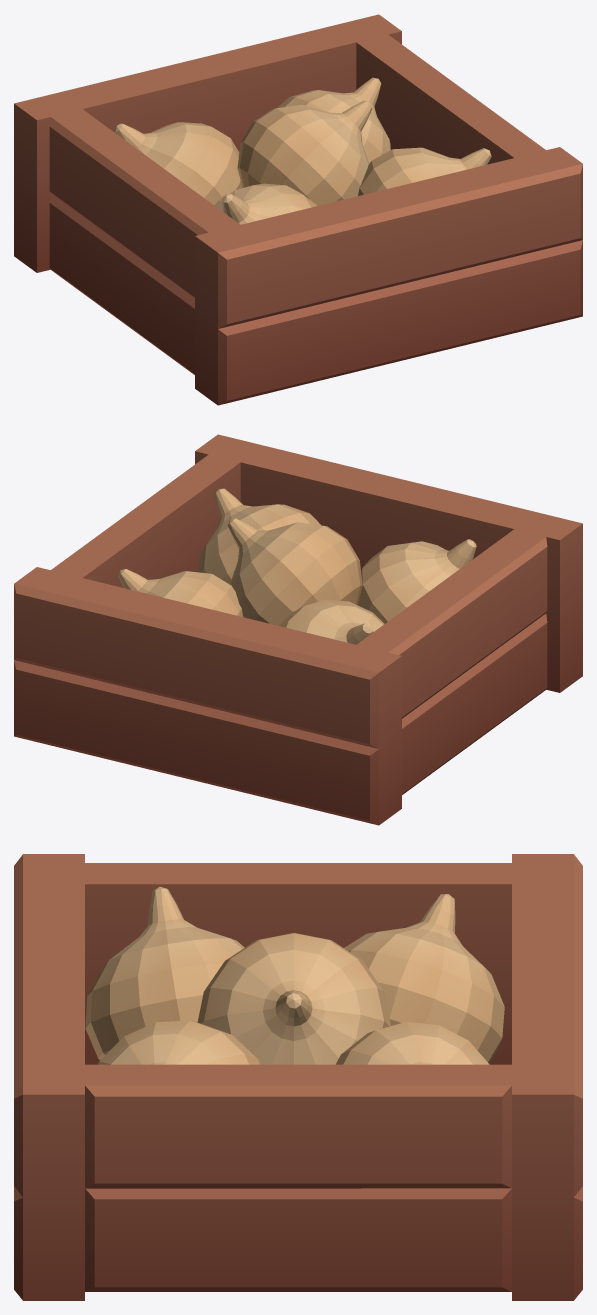
File: CrateOnions.obj
3 views of the same model, one above another, from view 1: azimuth 30°, elevation 25°; view 2: azimuth 150°, elevation 25°; view 3: azimuth 270°, elevation 25° (orthographic). The views are drawn at different scales.
Visible parts, largest first — view 1: Cube.231; view 2: Cube.231; view 3: Cube.231.
Boxes of the visible parts, x1,y1,x2,y2 form: Cube.231: (14, 14, 582, 405); Cube.231: (14, 434, 582, 825); Cube.231: (14, 854, 582, 1300).
Bounding box in the file's own units: 2 × 0.9234 × 2.
1 material, 1 textured.
